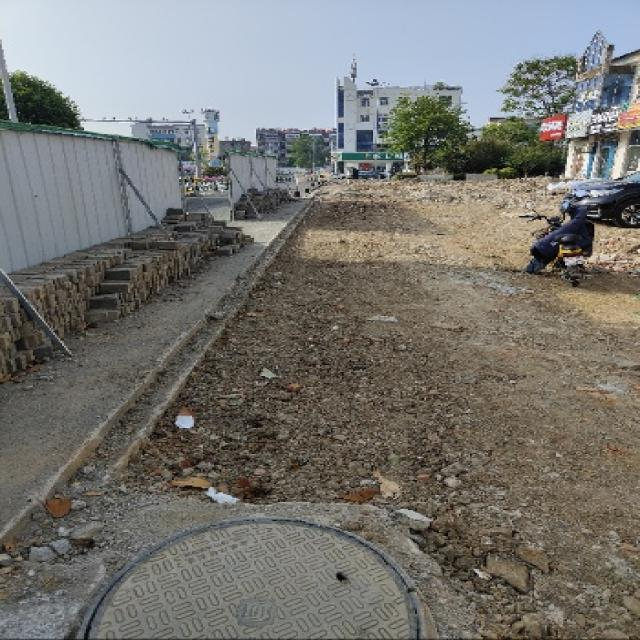Good: (67, 519, 484, 640)
